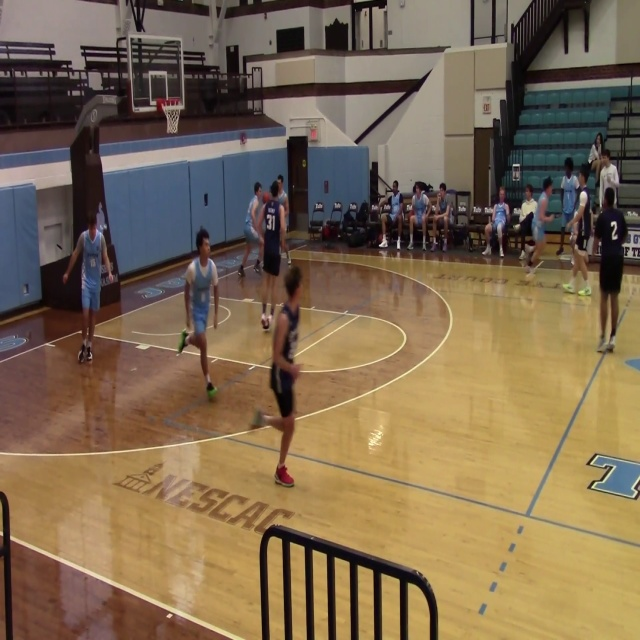Basketball: (240, 132, 247, 144)
